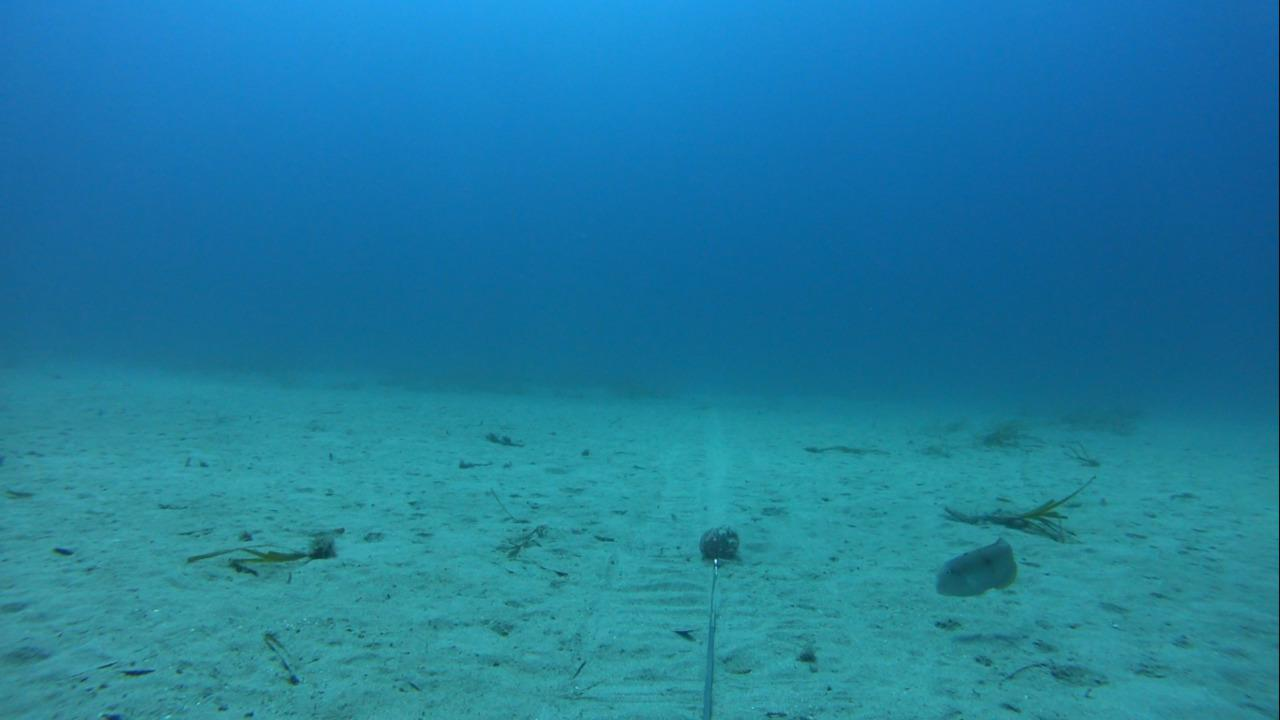raor: (929, 530, 1023, 599)
